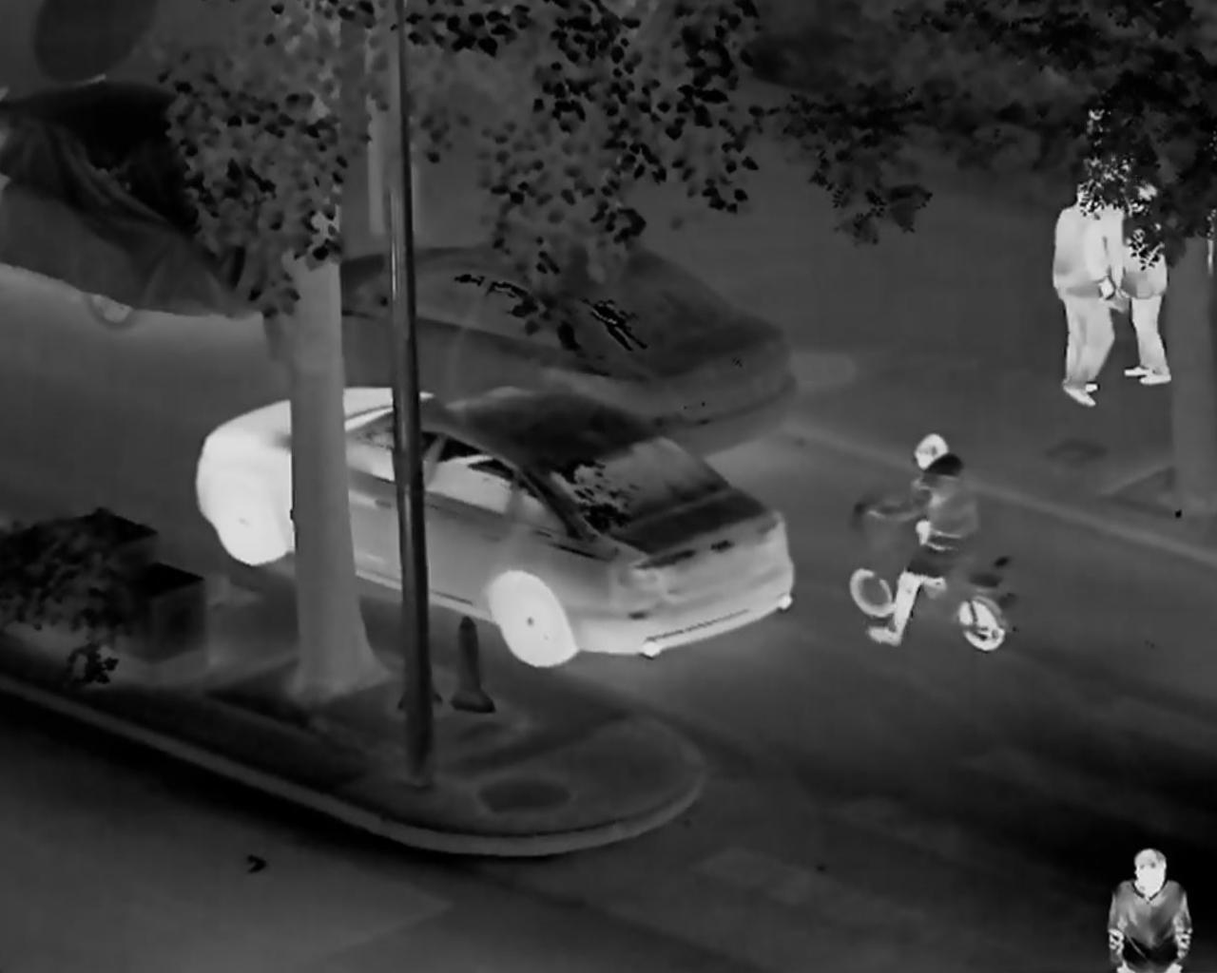person: (870, 433, 976, 641), (1075, 93, 1145, 324), (1046, 182, 1116, 407), (1109, 162, 1177, 387), (1108, 844, 1192, 973)
